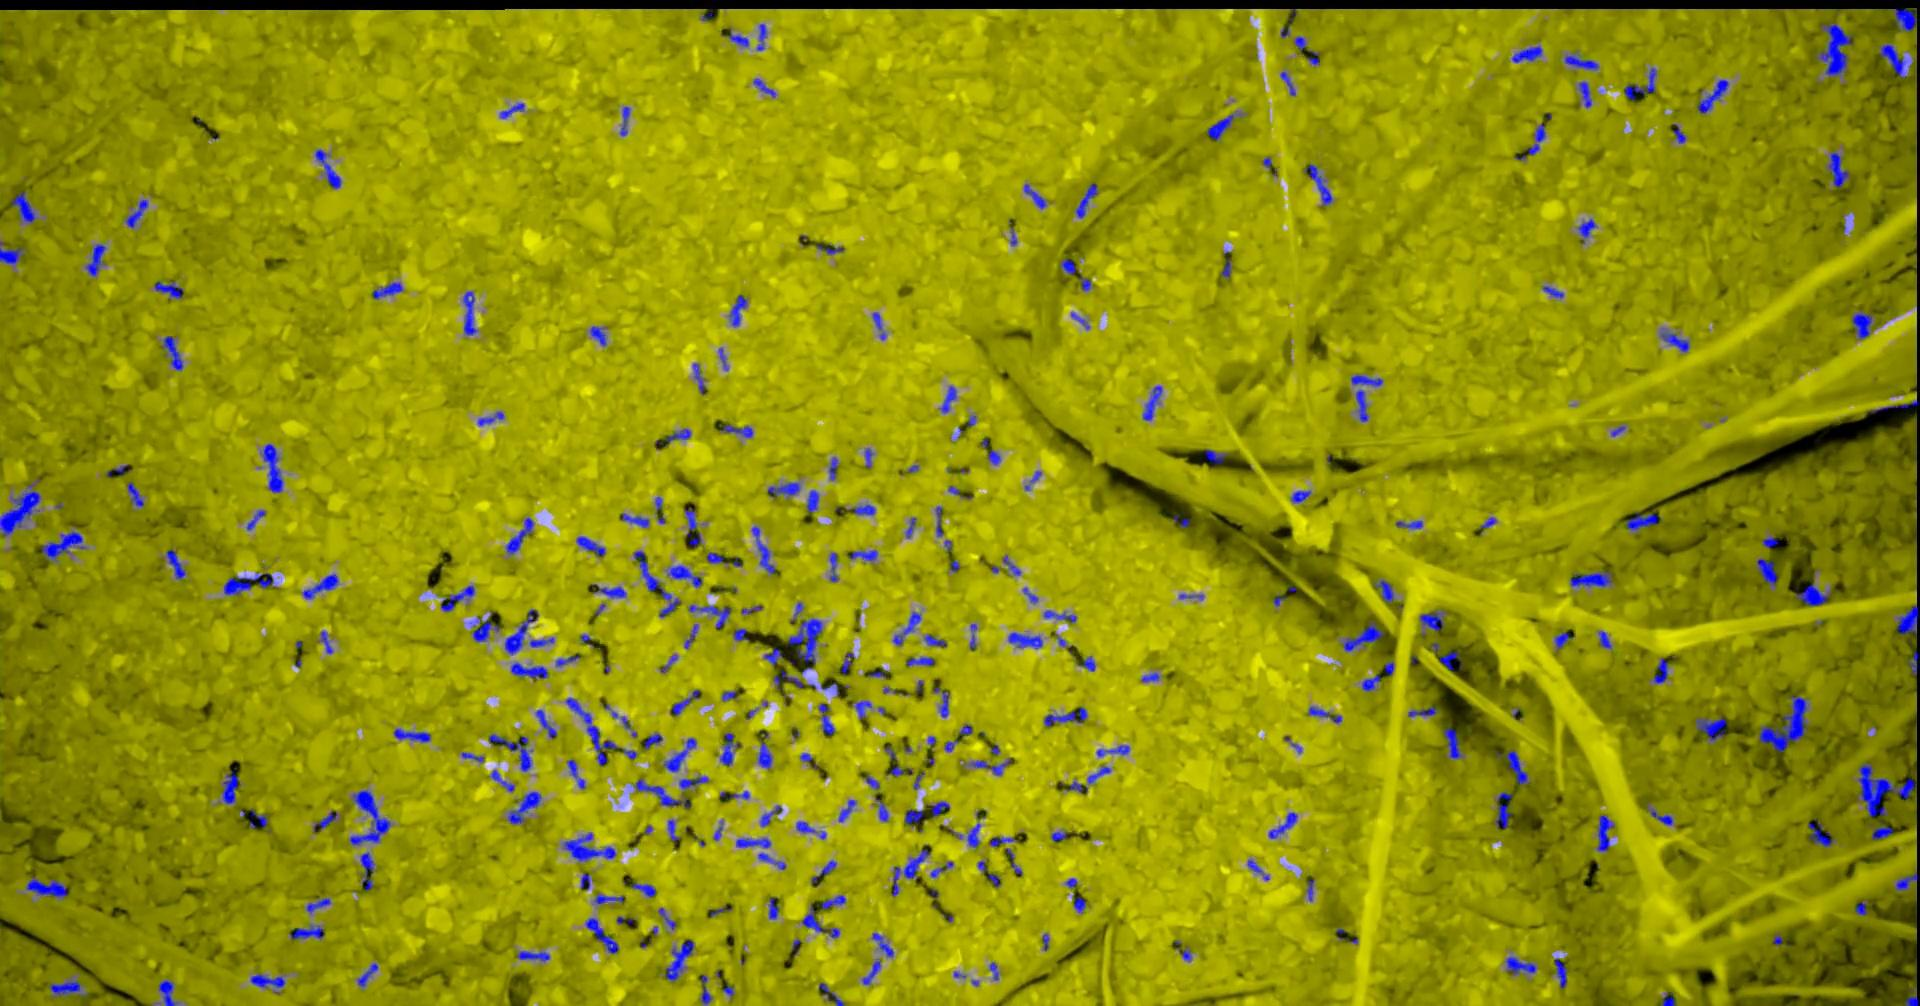ant: (565, 697, 636, 765), (632, 550, 679, 617), (349, 789, 390, 843), (0, 484, 41, 535), (891, 843, 930, 895), (1815, 23, 1851, 75), (787, 619, 822, 673), (488, 733, 531, 771), (632, 779, 690, 807), (504, 608, 538, 654), (563, 832, 615, 861), (41, 531, 84, 560), (1342, 621, 1383, 652), (801, 906, 839, 937), (664, 940, 693, 981), (585, 917, 618, 953), (1514, 123, 1545, 160), (750, 526, 775, 574), (223, 572, 273, 594), (663, 737, 696, 771), (1495, 749, 1528, 784), (1304, 163, 1331, 205), (1697, 79, 1728, 113), (505, 791, 540, 823), (314, 149, 340, 188), (1623, 67, 1656, 99), (505, 517, 533, 554), (262, 443, 282, 492), (1874, 8, 1916, 30), (688, 605, 730, 627), (891, 611, 919, 645), (1879, 43, 1906, 77), (302, 573, 338, 598), (439, 586, 474, 611), (25, 876, 67, 897), (1043, 708, 1086, 727), (1076, 182, 1097, 218), (469, 616, 499, 641), (1827, 151, 1849, 187), (667, 565, 702, 587), (11, 191, 36, 222), (1206, 113, 1233, 141), (670, 688, 698, 715), (1269, 812, 1297, 838), (1867, 399, 1919, 413), (1796, 583, 1829, 605), (719, 732, 740, 765), (161, 335, 182, 370), (1896, 605, 1919, 635), (1695, 718, 1726, 741), (250, 973, 284, 993), (1142, 385, 1161, 420), (1807, 821, 1832, 847), (970, 758, 1010, 775), (85, 244, 105, 276), (124, 199, 147, 227), (1596, 815, 1614, 851), (535, 709, 556, 738), (462, 291, 476, 335), (165, 549, 185, 579), (811, 860, 836, 885), (222, 768, 240, 803), (818, 982, 844, 1005), (510, 662, 547, 678), (1495, 791, 1511, 828), (1443, 727, 1462, 758), (359, 851, 375, 890), (1625, 513, 1661, 530), (1570, 572, 1611, 586), (1023, 183, 1046, 208), (577, 536, 604, 556), (1756, 558, 1777, 586), (1307, 706, 1341, 723), (684, 509, 700, 546), (1660, 332, 1689, 351), (773, 669, 803, 688), (818, 702, 834, 735), (1505, 956, 1535, 974), (392, 728, 430, 742), (566, 760, 585, 788), (729, 295, 745, 326), (1008, 633, 1043, 648), (491, 768, 514, 791), (154, 281, 183, 298), (663, 428, 690, 447), (1511, 46, 1542, 62), (1564, 55, 1597, 70), (372, 282, 403, 298), (0, 241, 23, 263), (356, 963, 377, 986), (312, 810, 337, 831), (872, 932, 893, 956), (1851, 312, 1870, 338), (767, 481, 799, 497), (1418, 611, 1444, 630), (50, 979, 81, 995), (157, 979, 177, 1005), (590, 583, 625, 597), (938, 385, 956, 412), (862, 958, 880, 984), (757, 852, 785, 869), (290, 925, 323, 939), (759, 805, 781, 826), (1247, 859, 1269, 879), (752, 77, 775, 97), (1374, 579, 1393, 602), (1577, 218, 1595, 243), (1895, 873, 1919, 890), (499, 102, 524, 118), (719, 424, 752, 437), (1043, 610, 1076, 622), (1004, 848, 1021, 874), (1870, 821, 1892, 840), (1439, 652, 1462, 669), (1653, 657, 1669, 683), (1650, 808, 1672, 826), (1350, 373, 1382, 386), (1355, 389, 1368, 420), (127, 481, 143, 506), (246, 509, 265, 530), (1553, 958, 1566, 988), (658, 907, 676, 929), (1907, 641, 1919, 674), (1087, 766, 1110, 782), (516, 950, 549, 962), (621, 513, 648, 527), (757, 742, 771, 768), (1280, 71, 1295, 95), (631, 882, 655, 897), (306, 897, 330, 912), (248, 809, 267, 828), (1002, 555, 1020, 575), (838, 799, 855, 821), (477, 412, 503, 426), (692, 363, 703, 394), (1204, 448, 1227, 464), (678, 776, 709, 788), (930, 861, 952, 876), (700, 974, 711, 1005), (872, 312, 885, 339), (763, 647, 782, 664), (874, 796, 888, 821), (820, 895, 844, 909), (1096, 746, 1129, 756), (1578, 81, 1591, 107), (684, 622, 697, 648), (850, 550, 877, 561), (589, 326, 606, 345), (1361, 674, 1380, 691), (855, 700, 871, 719), (643, 733, 662, 749), (904, 809, 923, 826), (728, 30, 748, 46), (844, 504, 875, 514), (593, 893, 623, 903), (105, 464, 130, 476), (968, 823, 980, 847), (817, 243, 843, 254), (735, 838, 770, 847), (1542, 285, 1563, 298), (1905, 983, 1919, 1005), (618, 105, 629, 135), (1554, 633, 1573, 648), (841, 652, 853, 674), (1408, 706, 1436, 716), (989, 836, 1017, 846), (555, 654, 579, 666), (923, 634, 945, 647), (667, 819, 679, 841), (1059, 258, 1076, 274), (756, 23, 766, 50), (1077, 655, 1095, 671), (719, 790, 749, 799), (930, 801, 949, 815), (889, 765, 912, 776), (905, 657, 935, 666), (1672, 123, 1685, 144), (938, 691, 949, 716), (829, 553, 838, 580), (1597, 630, 1611, 648), (806, 490, 818, 512), (706, 551, 728, 563), (320, 631, 331, 653), (461, 751, 483, 762), (1065, 781, 1087, 793), (1396, 520, 1422, 528), (1290, 490, 1310, 502), (935, 506, 942, 536), (530, 636, 552, 647), (795, 821, 815, 832), (768, 897, 778, 920), (1171, 514, 1189, 527), (987, 448, 1001, 464), (1220, 257, 1230, 277), (1050, 831, 1070, 841), (828, 456, 837, 479), (987, 873, 1001, 887), (733, 627, 748, 640), (1761, 536, 1778, 547), (1073, 895, 1084, 912), (1307, 50, 1319, 64), (1854, 901, 1867, 915), (1660, 992, 1674, 1005), (863, 448, 872, 467), (1305, 879, 1313, 901), (1294, 36, 1305, 50), (1142, 672, 1159, 681), (580, 873, 589, 889), (1079, 276, 1090, 290), (1384, 661, 1393, 674)
